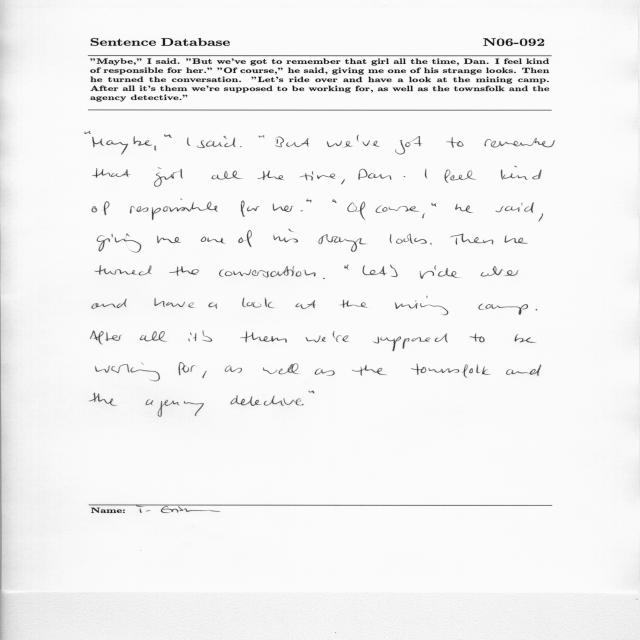word: (130, 199, 218, 220), (373, 334, 448, 352), (95, 363, 160, 382), (92, 136, 152, 155), (412, 364, 491, 378), (219, 266, 315, 277), (146, 399, 204, 417), (395, 296, 448, 315), (318, 234, 367, 252), (97, 234, 141, 253), (231, 395, 302, 406), (485, 138, 555, 148), (501, 166, 542, 180), (95, 265, 152, 275), (154, 167, 182, 187), (420, 265, 460, 279), (241, 331, 287, 343), (478, 304, 528, 315), (451, 233, 494, 245), (395, 136, 422, 154), (197, 136, 236, 148), (444, 169, 477, 183), (495, 202, 534, 213), (481, 266, 519, 277), (154, 298, 195, 308), (91, 331, 122, 344), (263, 364, 299, 375), (92, 298, 127, 309), (352, 365, 387, 376), (506, 365, 541, 376), (93, 168, 131, 178), (390, 234, 427, 244), (359, 169, 392, 180), (89, 393, 116, 406), (300, 171, 335, 181), (376, 205, 419, 213), (347, 202, 366, 220), (275, 137, 309, 147), (242, 298, 275, 308), (274, 229, 299, 242), (241, 200, 260, 217), (169, 266, 199, 276), (140, 331, 167, 342), (212, 171, 244, 180), (257, 171, 285, 181), (357, 135, 380, 147), (92, 201, 110, 215), (340, 299, 368, 308), (362, 266, 387, 276), (238, 230, 252, 247), (179, 363, 196, 376), (193, 331, 212, 342), (505, 235, 528, 244), (446, 137, 464, 148), (514, 334, 536, 343), (157, 236, 181, 244), (295, 300, 316, 309), (327, 141, 353, 148), (273, 204, 294, 212), (201, 237, 225, 244), (333, 331, 348, 342), (455, 204, 473, 213), (315, 368, 335, 376), (306, 336, 326, 343), (225, 365, 242, 373), (470, 333, 485, 342), (390, 265, 398, 277), (208, 302, 217, 309), (188, 332, 192, 342), (539, 213, 543, 222), (164, 134, 172, 138), (203, 371, 207, 378), (187, 137, 190, 146), (341, 179, 345, 185), (306, 199, 312, 203), (425, 169, 427, 179), (332, 199, 337, 203), (432, 203, 437, 207), (344, 265, 349, 269), (85, 131, 91, 134), (259, 135, 265, 138), (422, 213, 425, 218), (309, 391, 315, 393), (155, 146, 157, 151), (301, 210, 304, 212), (536, 309, 538, 311), (301, 404, 304, 405), (240, 146, 242, 147), (404, 176, 406, 177), (430, 243, 432, 244), (323, 278, 325, 279)
